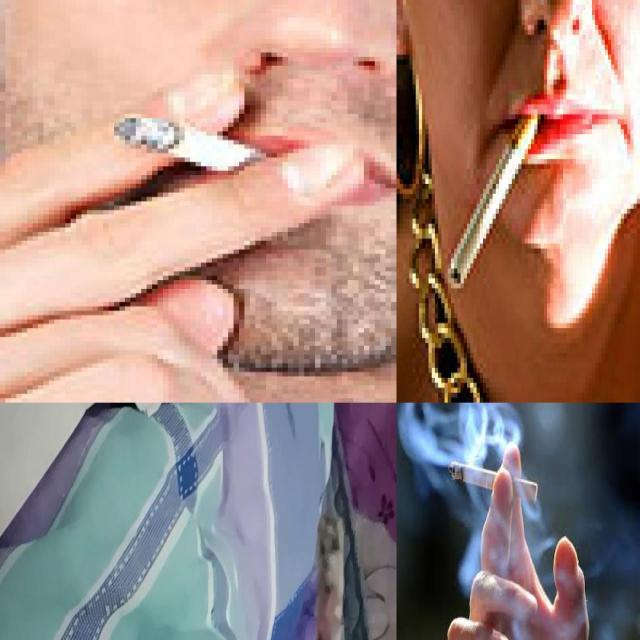cigarette: (449, 108, 539, 290), (111, 115, 272, 177), (297, 514, 347, 640), (448, 460, 538, 503)
